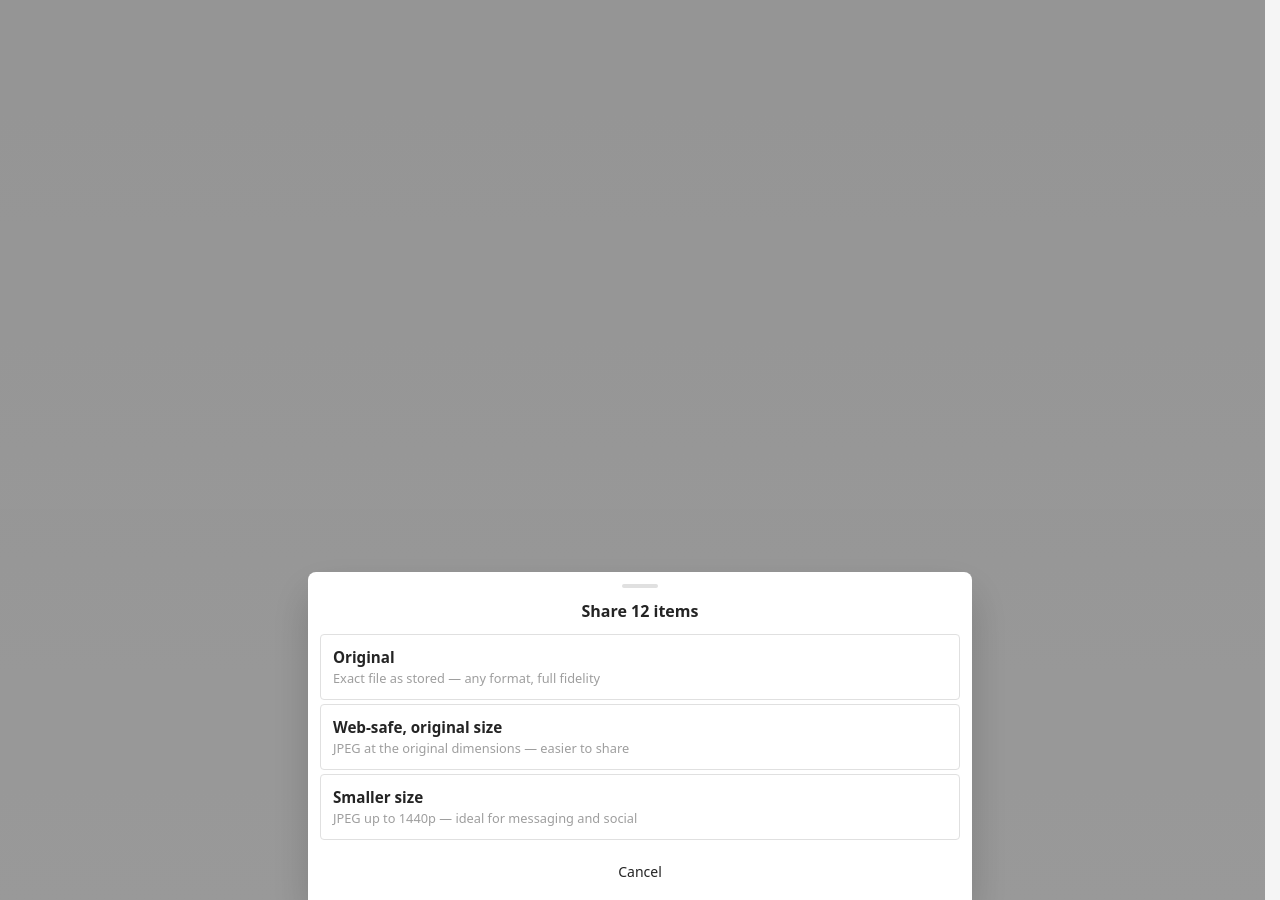
ShareOptionsModal › over the share sheet's limit › says so when the link can't be created
Click the button "Smaller size" at (640, 807), box top-left (320, 774), bottom-right (960, 840)
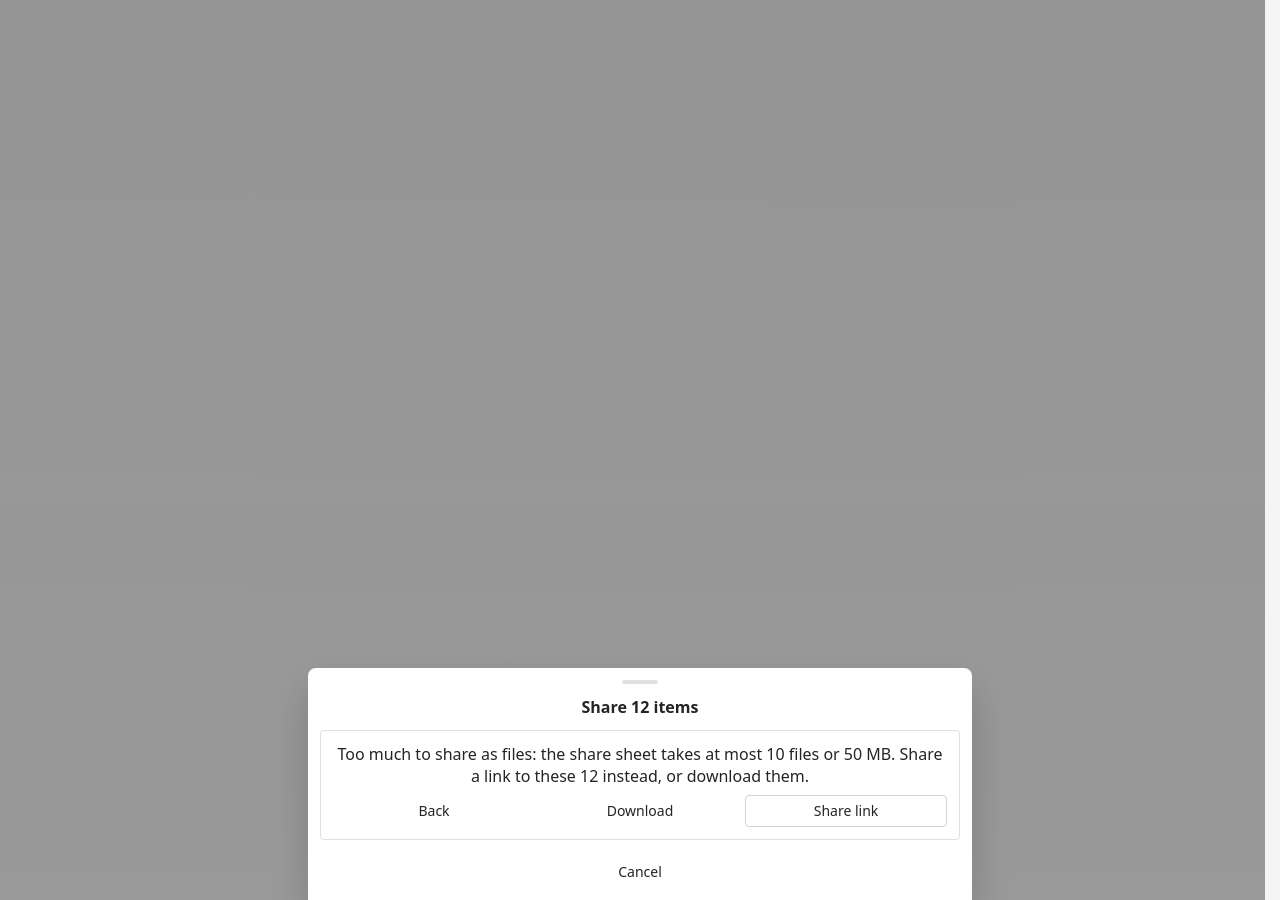
Click the button "Share link" at (846, 811), box top-left (745, 795), bottom-right (947, 827)
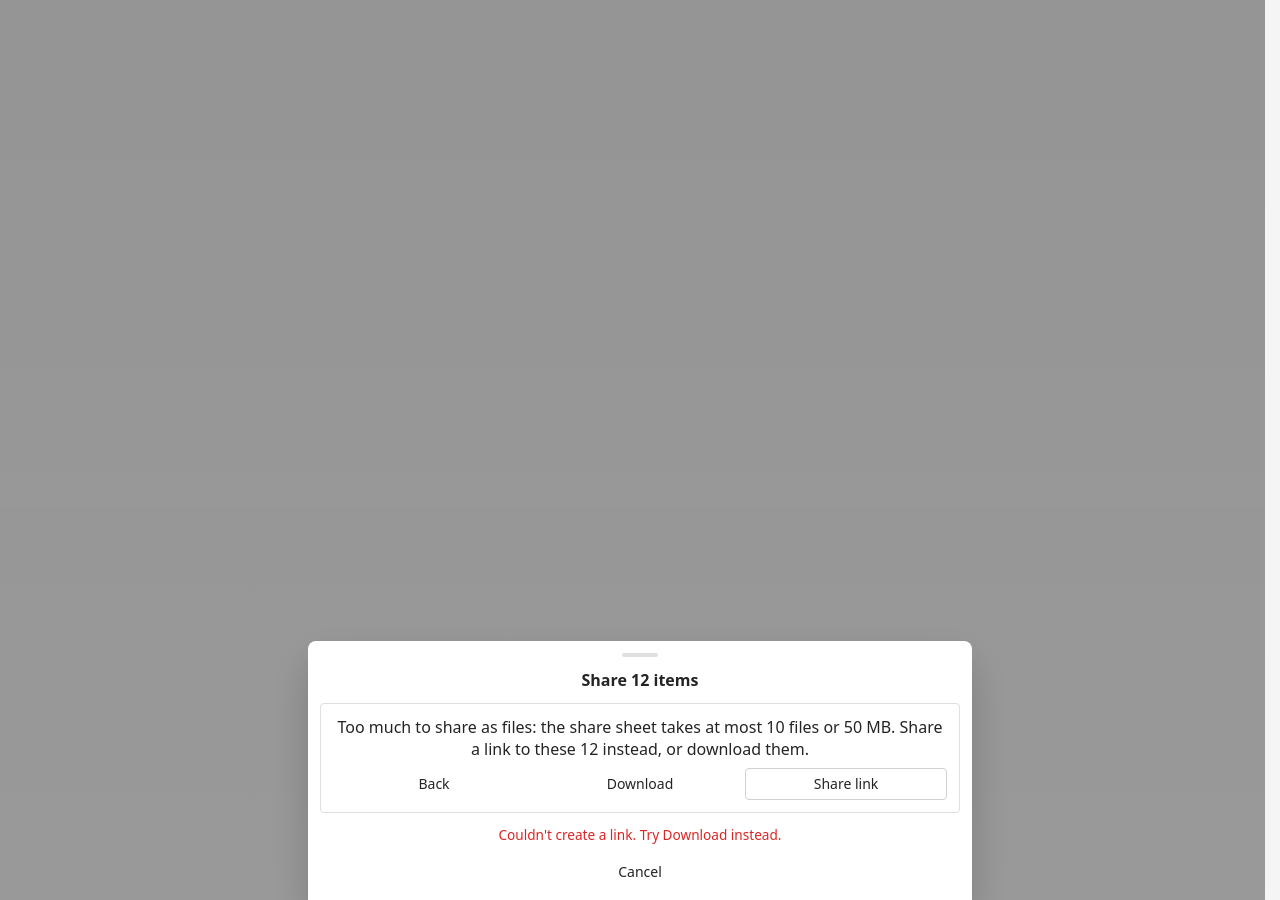
Check: the text "Couldn't create a link. Try Download instead." is shown, box top-left (498, 825), bottom-right (781, 844)
